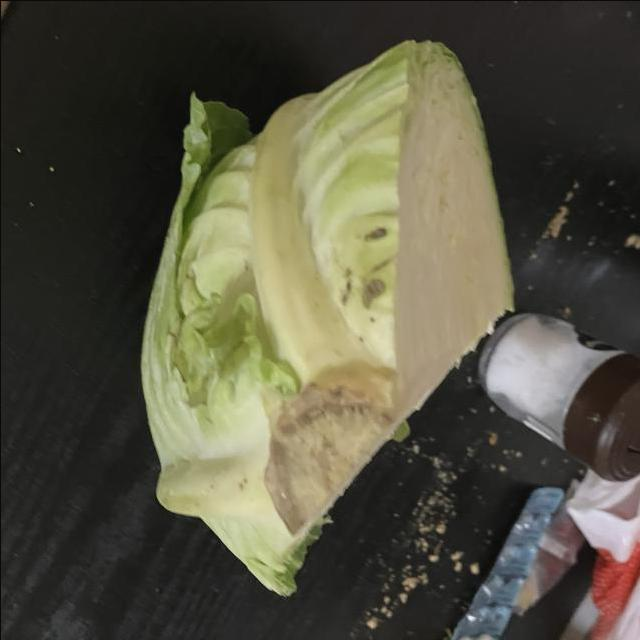cabbage: (138, 39, 518, 600)
